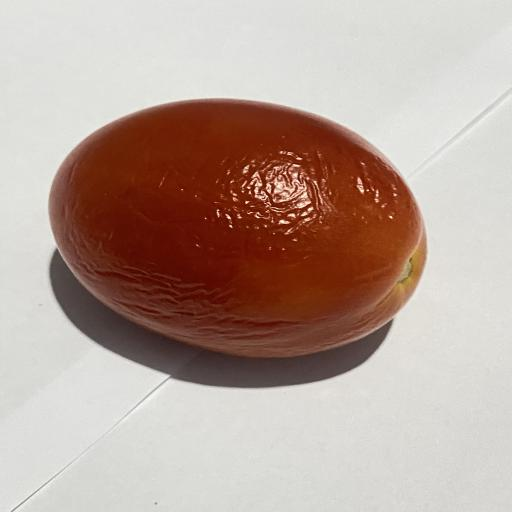spoiled: (49, 99, 426, 357)
